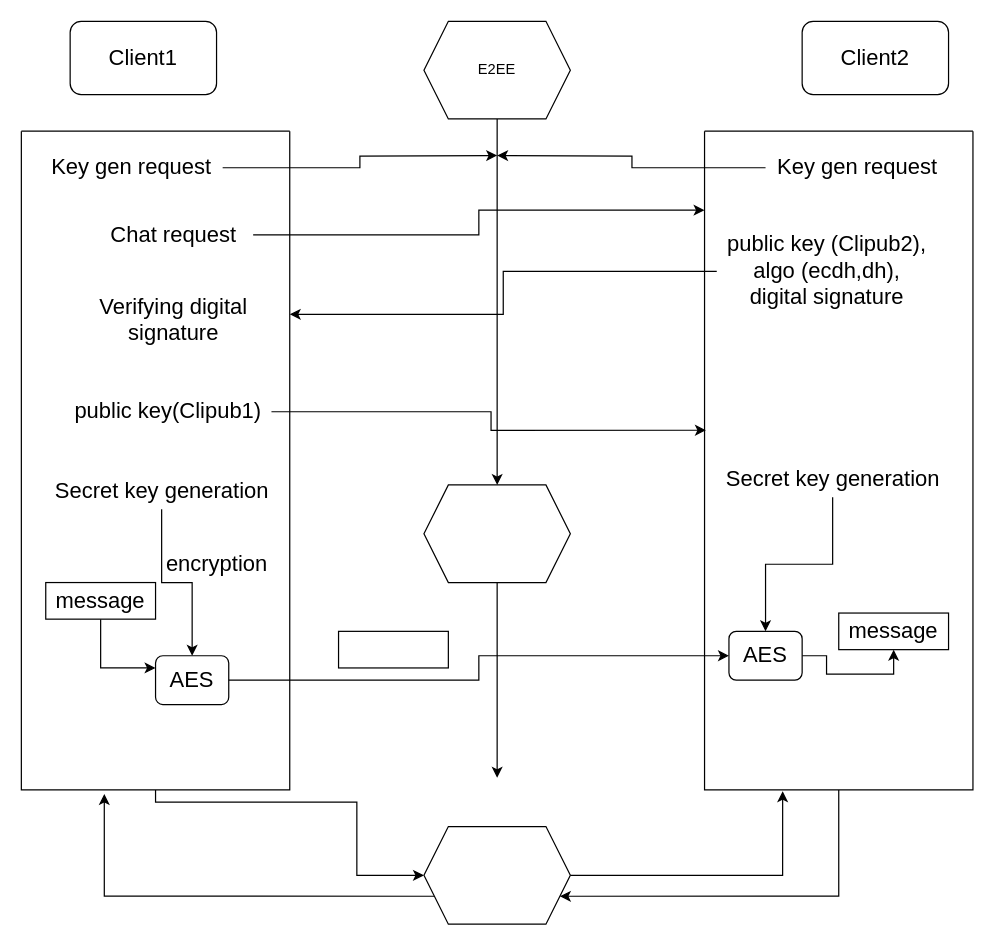
Some shapes in this 994 by 946 pixel diagram are drawn without their labels. Here are the shapes that lost their labels. From the top down, the box of each, then its label:
(423, 484, 570, 583): Web socket server(legitimate)
(337, 630, 448, 668): cipher text
(423, 825, 570, 924): E2EE WITH WEB SOCKETS (MITM)
